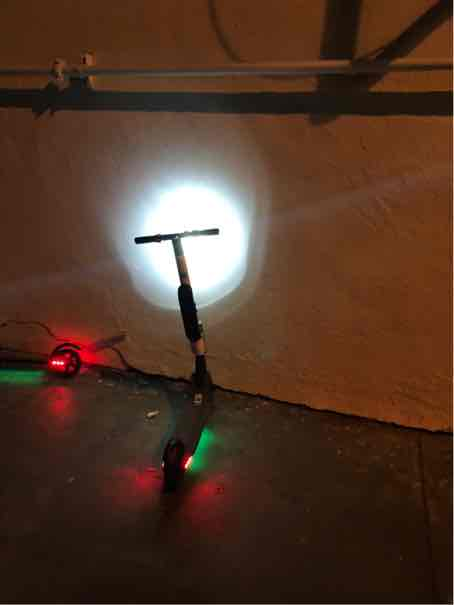scooter: (124, 208, 236, 517)
